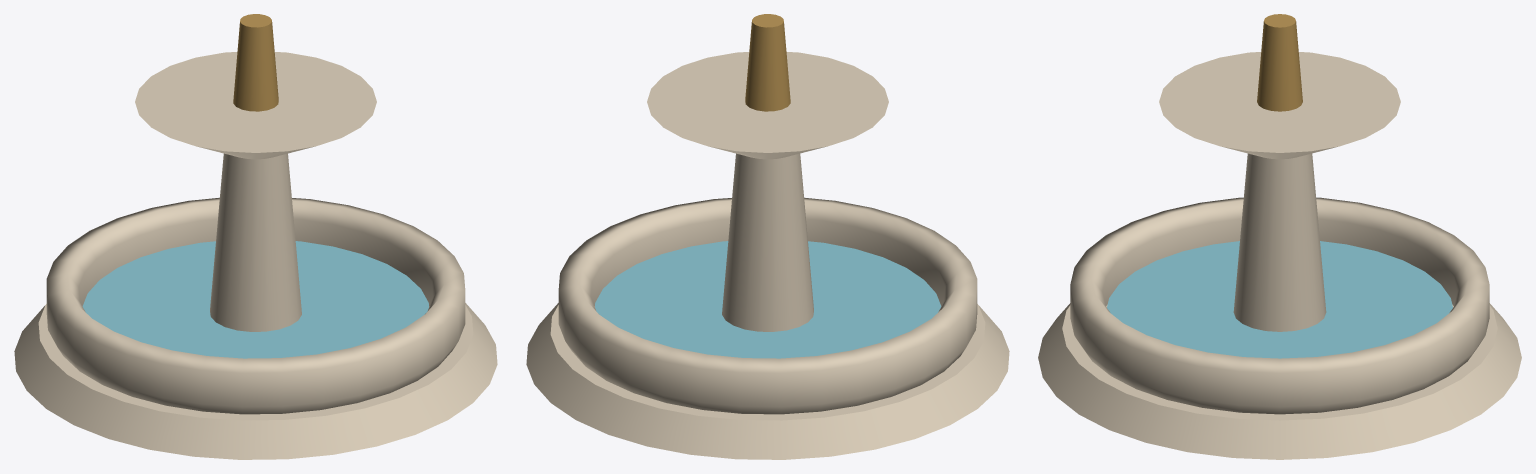
File: courtyard_fountain.glb
3 views of the same model, side by side, from view 1: azimuth 30°, elevation 25°; view 2: azimuth 150°, elevation 25°; view 3: azimuth 270°, elevation 25° (orthographic).
Visible parts, largest first — view 1: courtyard_fountain; view 2: courtyard_fountain; view 3: courtyard_fountain.
Boxes of the visible parts, x1,y1,x2,y2 form: courtyard_fountain: (14,14,497,459); courtyard_fountain: (526,14,1009,459); courtyard_fountain: (1038,14,1521,459).
Size of the model in its own units: 3 by 2.31 by 3.
